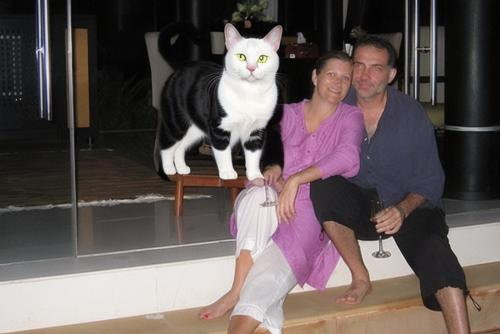bottle: (220, 14, 257, 46)
cat: (157, 21, 283, 180)
chair: (143, 31, 171, 162)
person: (310, 37, 475, 334), (198, 52, 367, 334)
person/foot: (336, 275, 376, 308), (198, 292, 240, 321)
person/hand: (275, 175, 302, 227), (244, 154, 281, 188), (376, 206, 406, 238)
person/head: (351, 43, 401, 104), (314, 56, 354, 108)
pottedplant: (223, 2, 282, 57)
